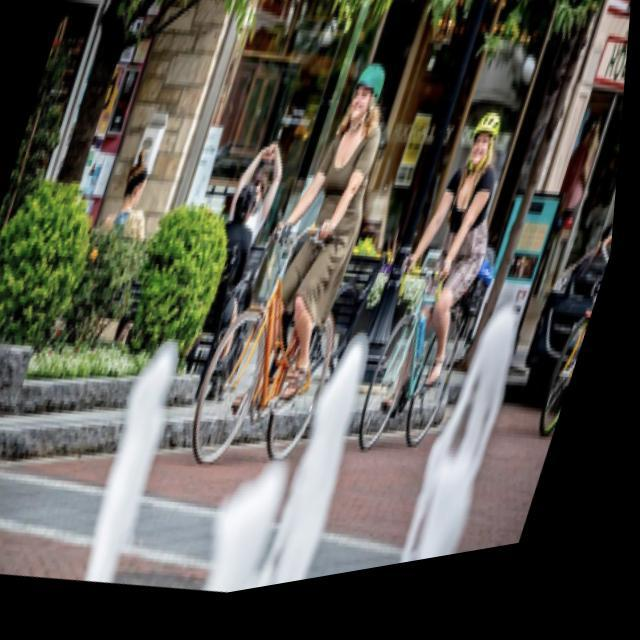Helmet: (334, 50, 400, 135), (452, 96, 509, 184)
